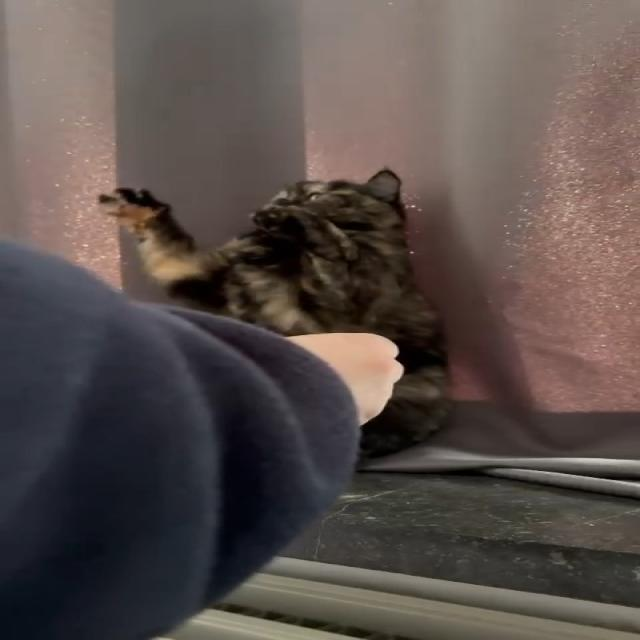authorized: (96, 168, 453, 460)
